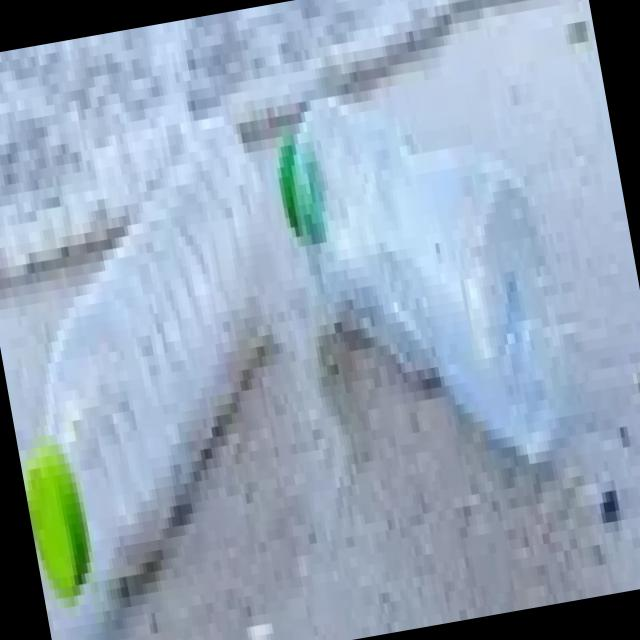Recycle: (0, 101, 336, 635), (264, 52, 592, 510)
